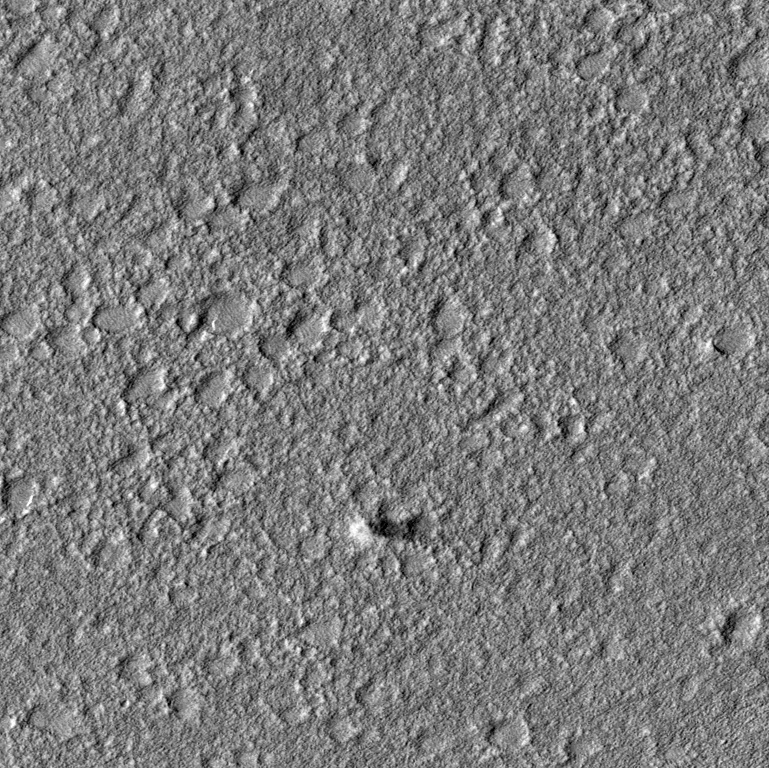dust_devil: (348, 511, 425, 544)
